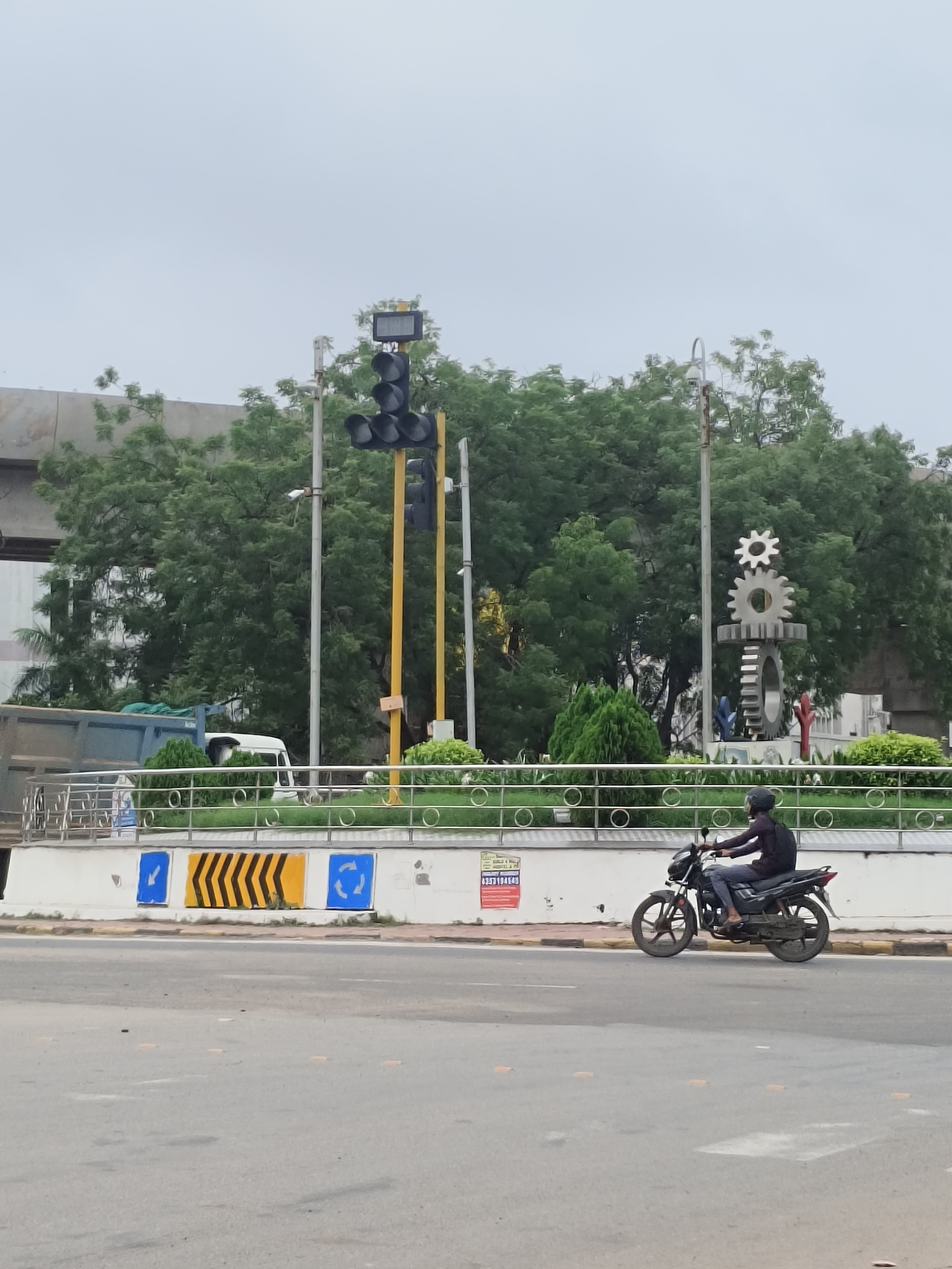BikeWithRider: (622, 779, 847, 969)
Helmet: (734, 774, 789, 828), (739, 784, 780, 821)
